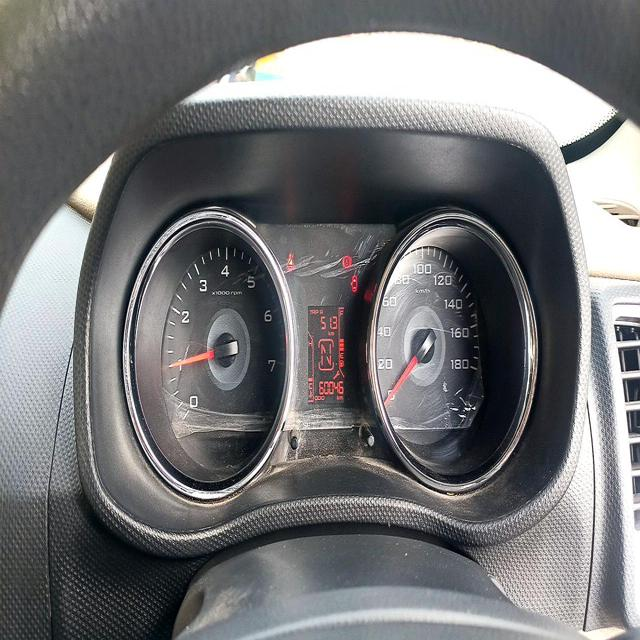odometer: (318, 380, 344, 397)
